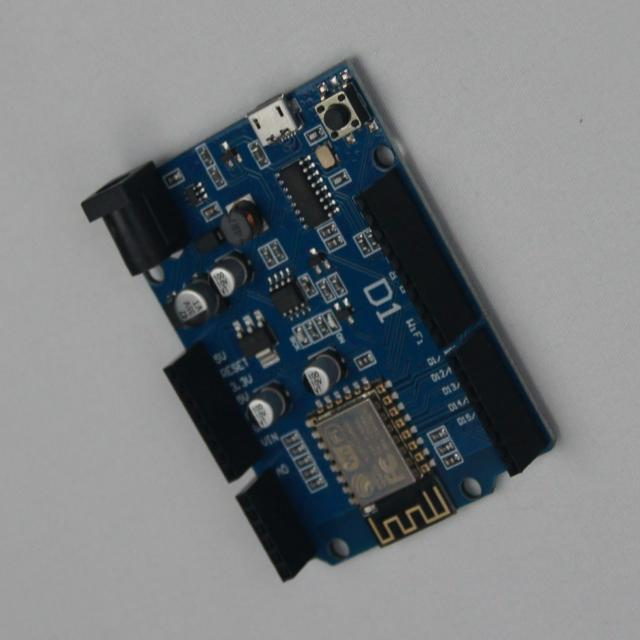Arduino Uno WiFi Shield: (83, 63, 556, 582)
